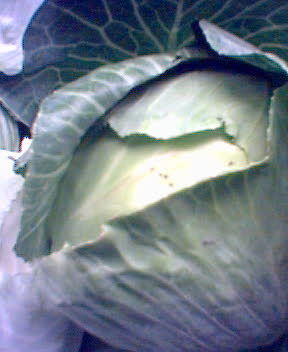cabbage: (0, 1, 287, 351)
